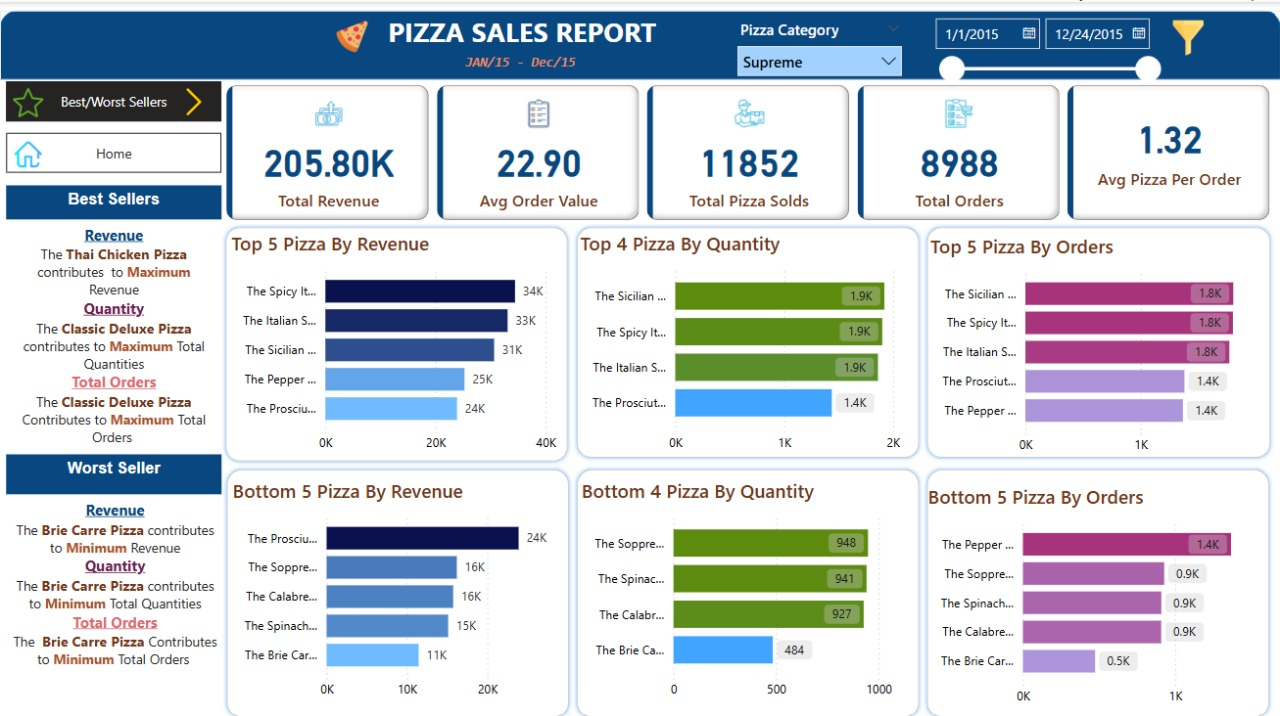

Layout of this report page (visuals, bound fields, positions):
{"tool":"powerbi","page":{"name":"Best/Worst Sellers","canvas":[1280,720],"ordinal":1},"visuals":[{"type":"cardVisual","fields":{"Data":["pizza_sales.Total Revenue","pizza_sales.Avg Order Value","pizza_sales.Total Pizza Solds","pizza_sales.Total Orders","pizza_sales.Avg Pizza Per Order"]},"box":[221.3,78.3,1052.9,145.5],"z":0},{"type":"shape","box":[0,8.6,1280.3,69.7],"z":1000},{"type":"textbox","box":[382.7,6.1,286.1,56.3],"z":2000},{"type":"textbox","box":[452.4,45.2,148,34.2],"z":3000},{"type":"image","box":[324.1,13.5,55,42.8],"z":4000},{"type":"shape","box":[221.3,221.3,349.7,242.1],"z":5000},{"type":"textbox","box":[6.1,183.4,215.2,34.2],"z":15000},{"type":"textbox","box":[6.1,217.7,215.2,234.8],"z":16000},{"type":"textbox","box":[6.1,452.4,215.2,40.4],"z":17000},{"type":"textbox","box":[7.3,492.8,215.2,227.4],"z":18000},{"type":"slicer","fields":{"Values":["pizza_sales.pizza_category"]},"box":[726.4,12.2,184.6,62],"z":19000},{"type":"slicer","fields":{"Values":["pizza_sales.order_date"]},"box":[922,6.1,249.5,90.5],"z":20000},{"type":"image","box":[1162.9,13.5,47.7,45],"z":21000},{"type":"shape","box":[572.3,221.3,349.7,238.5],"z":21001},{"type":"shape","box":[922,221.3,351,238.5],"z":21002},{"type":"shape","box":[222.6,463.5,349.7,256.8],"z":21003},{"type":"shape","box":[572.3,463.5,349.7,256.8],"z":21004},{"type":"shape","box":[922,463.5,349.7,256.8],"z":21005},{"type":"barChart","title":"Top 5 Pizza By Revenue","fields":{"Category":["pizza_sales.pizza_name"],"Y":["pizza_sales.Total Revenue"]},"box":[226.2,228.7,344.8,231.1],"z":21006},{"type":"barChart","title":"Bottom 5 Pizza By Revenue","fields":{"Category":["pizza_sales.pizza_name"],"Y":["pizza_sales.Total Revenue"]},"box":[227.8,476.2,344.4,230.5],"z":21007},{"type":"barChart","title":"Top 4 Pizza By Quantity","fields":{"Category":["pizza_sales.pizza_name"],"Y":["pizza_sales.Total Pizza Solds"]},"box":[575,229.2,347.2,230.5],"z":21008},{"type":"barChart","title":"Bottom 4 Pizza By Quantity","fields":{"Category":["pizza_sales.pizza_name"],"Y":["pizza_sales.Total Pizza Solds"]},"box":[576.3,476.2,334.8,230.5],"z":21009},{"type":"barChart","title":"Top 5 Pizza By Orders","fields":{"Category":["pizza_sales.pizza_name"],"Y":["pizza_sales.Total Orders"]},"box":[924.9,230.5,347.2,230.5],"z":21010},{"type":"barChart","title":"Bottom 5 Pizza By Orders","fields":{"Category":["pizza_sales.pizza_name"],"Y":["pizza_sales.Total Orders"]},"box":[922.1,481.6,347.2,230.5],"z":21011},{"type":"pageNavigator","box":[6.1,79.5,215.2,40.4],"z":21012},{"type":"pageNavigator","box":[6.1,130.8,215.2,40.4],"z":21013},{"type":"image","box":[174.9,79.5,37.9,40.4],"z":21014},{"type":"image","box":[7.3,80.7,41.6,40.4],"z":21015},{"type":"image","box":[9.8,133.3,36.7,37.9],"z":21016}]}

Visuals, with their boxes in screenshot pixels (x1, y1, x2, y2), scaled from the page's 1280x720 canvas onto the 1280x716 screenshot:
cardVisual - pizza_sales.Total Revenue x pizza_sales.Avg Order Value: x1=221, y1=78, x2=1274, y2=223
shape: x1=0, y1=9, x2=1279, y2=78
textbox: x1=383, y1=6, x2=669, y2=62
textbox: x1=452, y1=45, x2=600, y2=79
image: x1=324, y1=13, x2=379, y2=56
shape: x1=221, y1=220, x2=571, y2=461
textbox: x1=6, y1=182, x2=221, y2=216
textbox: x1=6, y1=216, x2=221, y2=450
textbox: x1=6, y1=450, x2=221, y2=490
textbox: x1=7, y1=490, x2=222, y2=715
slicer - pizza_sales.pizza_category: x1=726, y1=12, x2=911, y2=74
slicer - pizza_sales.order_date: x1=922, y1=6, x2=1172, y2=96
image: x1=1163, y1=13, x2=1211, y2=58
shape: x1=572, y1=220, x2=922, y2=457
shape: x1=922, y1=220, x2=1273, y2=457
shape: x1=223, y1=461, x2=572, y2=715
shape: x1=572, y1=461, x2=922, y2=715
shape: x1=922, y1=461, x2=1272, y2=715
"Top 5 Pizza By Revenue" barChart: x1=226, y1=227, x2=571, y2=457
"Bottom 5 Pizza By Revenue" barChart: x1=228, y1=474, x2=572, y2=703
"Top 4 Pizza By Quantity" barChart: x1=575, y1=228, x2=922, y2=457
"Bottom 4 Pizza By Quantity" barChart: x1=576, y1=474, x2=911, y2=703
"Top 5 Pizza By Orders" barChart: x1=925, y1=229, x2=1272, y2=458
"Bottom 5 Pizza By Orders" barChart: x1=922, y1=479, x2=1269, y2=708
pageNavigator: x1=6, y1=79, x2=221, y2=119
pageNavigator: x1=6, y1=130, x2=221, y2=170
image: x1=175, y1=79, x2=213, y2=119
image: x1=7, y1=80, x2=49, y2=120
image: x1=10, y1=133, x2=46, y2=170
